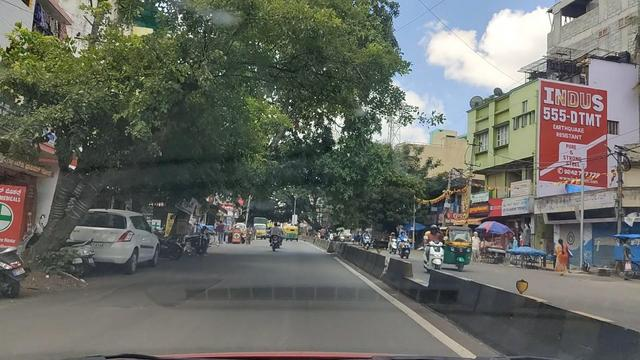LMV: (75, 206, 162, 271)
RoadDamages: (108, 275, 224, 319)
